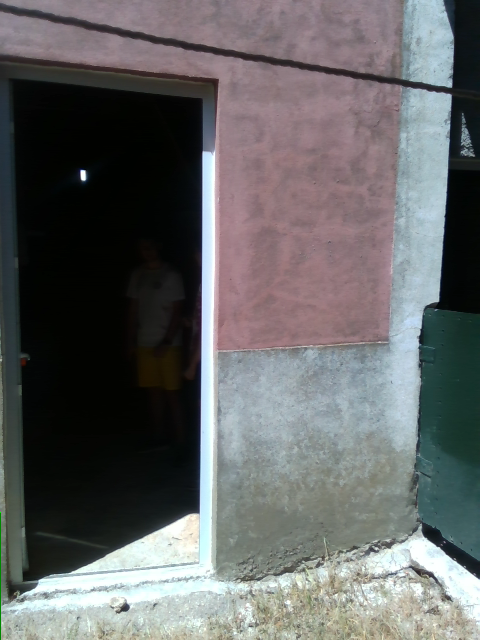open: (3, 55, 215, 596)
